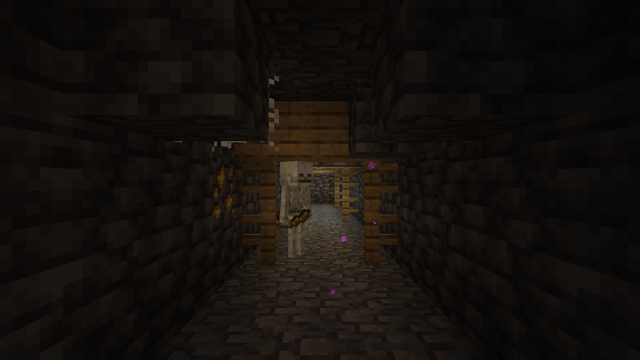squelettes: (280, 161, 310, 259)
